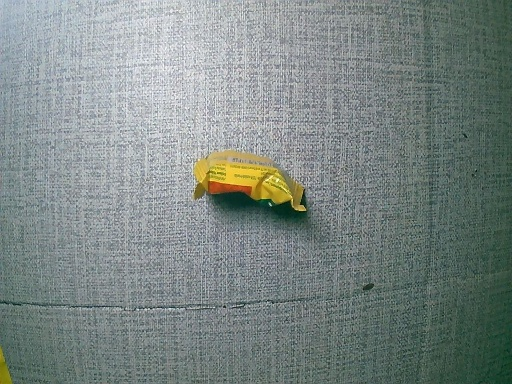plastic: (193, 145, 308, 219)
